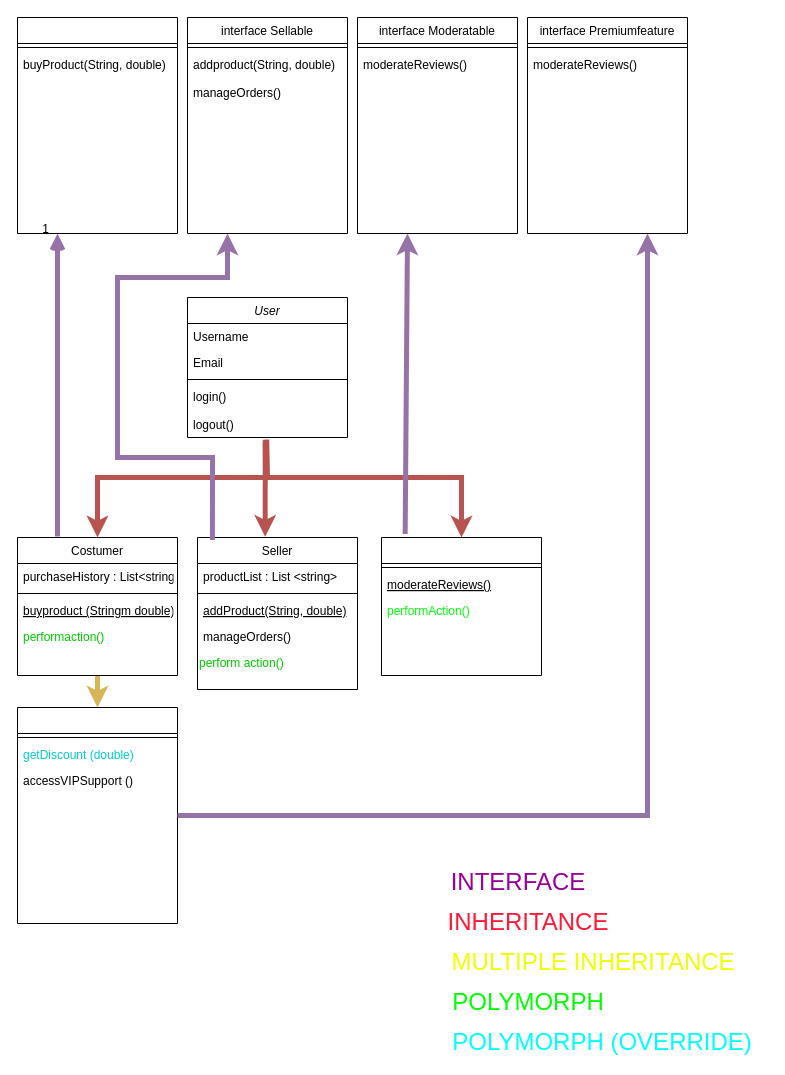
The diagram is 785 pixels wide and 1075 high, and some of its shapes have lost their labels. The shapes that lost their labels are listed below. From the top down, each one's box as (x1, y1, x2, y2) in pixels, then its label:
(16, 16, 178, 234): interface Purchasable
(380, 536, 542, 676): Admin
(16, 706, 178, 924): PremiumCustomer
